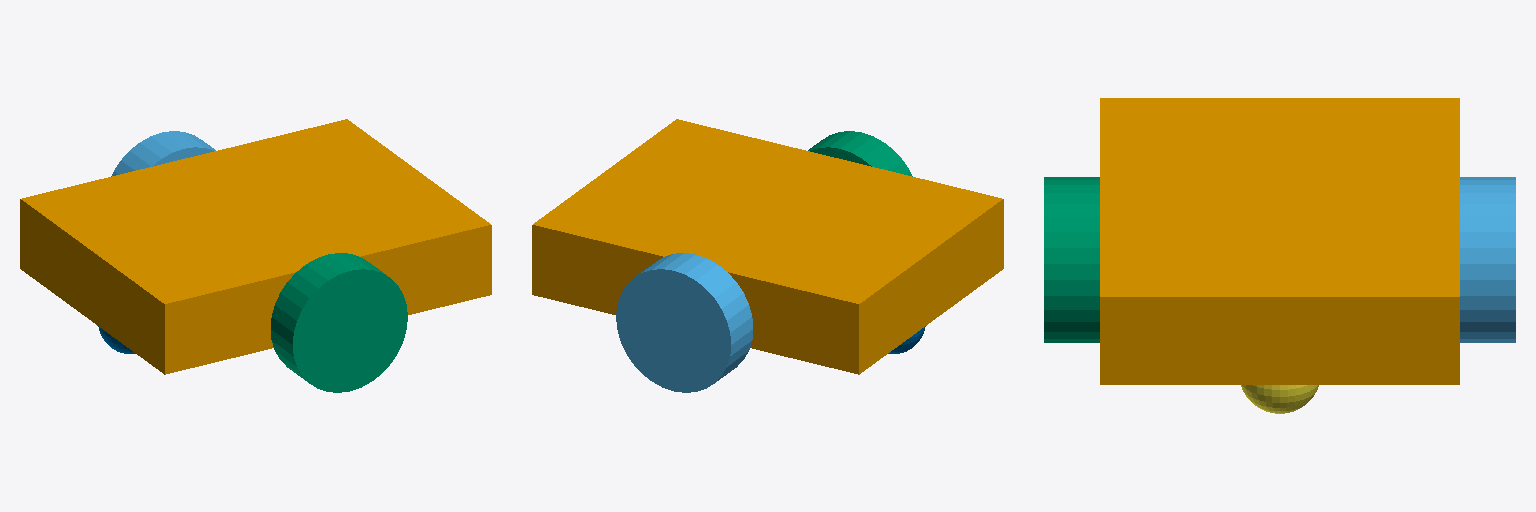
robot.urdf — mobile_cart:
<?xml version="1.0"?>
<!-- A minimal differential-drive cart with no arm: two driven wheels and
     two caster spheres. Imported through the regular URDF importer, it
     exercises the wheel-only path (no actuated arm chain) and gives the
     navigation skills a standalone base to drive. Wheel joint axes point
     radially outward on both sides, matching the importer's measured
     spin-sign convention. The caster spheres sit 1.5 mm high: they are
     tip guards, not load bearers — a rigid sphere caster cannot roll, so
     a load-bearing one just drags (measured: it halves the drive). -->
<robot name="mobile_cart">
  <link name="chassis">
    <inertial>
      <mass value="3.0"/>
      <inertia ixx="0.020" ixy="0" ixz="0" iyy="0.030" iyz="0" izz="0.045"/>
    </inertial>
    <visual>
      <origin xyz="0 0 0.075"/>
      <geometry><box size="0.34 0.26 0.07"/></geometry>
    </visual>
    <collision>
      <origin xyz="0 0 0.075"/>
      <geometry><box size="0.34 0.26 0.07"/></geometry>
    </collision>
  </link>

  <link name="left_wheel_link">
    <inertial>
      <mass value="0.3"/>
      <inertia ixx="0.0006" ixy="0" ixz="0" iyy="0.0011" iyz="0" izz="0.0006"/>
    </inertial>
    <visual>
      <origin rpy="1.5707963 0 0"/>
      <geometry><cylinder radius="0.06" length="0.04"/></geometry>
    </visual>
    <collision>
      <origin rpy="1.5707963 0 0"/>
      <geometry><cylinder radius="0.06" length="0.04"/></geometry>
    </collision>
  </link>
  <joint name="base_left_wheel" type="continuous">
    <parent link="chassis"/>
    <child link="left_wheel_link"/>
    <origin xyz="0 0.15 0.06"/>
    <axis xyz="0 1 0"/>
    <limit effort="10" velocity="10"/>
  </joint>

  <link name="right_wheel_link">
    <inertial>
      <mass value="0.3"/>
      <inertia ixx="0.0006" ixy="0" ixz="0" iyy="0.0011" iyz="0" izz="0.0006"/>
    </inertial>
    <visual>
      <origin rpy="1.5707963 0 0"/>
      <geometry><cylinder radius="0.06" length="0.04"/></geometry>
    </visual>
    <collision>
      <origin rpy="1.5707963 0 0"/>
      <geometry><cylinder radius="0.06" length="0.04"/></geometry>
    </collision>
  </link>
  <joint name="base_right_wheel" type="continuous">
    <parent link="chassis"/>
    <child link="right_wheel_link"/>
    <origin xyz="0 -0.15 0.06"/>
    <axis xyz="0 -1 0"/>
    <limit effort="10" velocity="10"/>
  </joint>

  <link name="front_caster">
    <inertial>
      <mass value="0.1"/>
      <inertia ixx="0.00004" ixy="0" ixz="0" iyy="0.00004" iyz="0" izz="0.00004"/>
    </inertial>
    <visual><geometry><sphere radius="0.03"/></geometry></visual>
    <collision><geometry><sphere radius="0.03"/></geometry></collision>
  </link>
  <joint name="front_caster_joint" type="fixed">
    <parent link="chassis"/>
    <child link="front_caster"/>
    <origin xyz="0.13 0 0.0315"/>
  </joint>

  <link name="back_caster">
    <inertial>
      <mass value="0.1"/>
      <inertia ixx="0.00004" ixy="0" ixz="0" iyy="0.00004" iyz="0" izz="0.00004"/>
    </inertial>
    <visual><geometry><sphere radius="0.03"/></geometry></visual>
    <collision><geometry><sphere radius="0.03"/></geometry></collision>
  </link>
  <joint name="back_caster_joint" type="fixed">
    <parent link="chassis"/>
    <child link="back_caster"/>
    <origin xyz="-0.13 0 0.0315"/>
  </joint>
</robot>

--- Render facts (derived) ---
Views: 3 orthographic renders of the robot side by side, from view 1: azimuth 30°, elevation 25°; view 2: azimuth 150°, elevation 25°; view 3: azimuth 270°, elevation 25°.
Robot: mobile_cart — 5 links, 4 joints (2 continuous, 2 fixed); root link chassis; default pose: every joint at zero.
Links seen in each view (by area): view 1: chassis, right_wheel_link, left_wheel_link; view 2: chassis, left_wheel_link, right_wheel_link; view 3: chassis, left_wheel_link, right_wheel_link, front_caster.
Boxes of the visible links, left/top/right/bottom form: chassis: left=20, top=119, right=491, bottom=374; right_wheel_link: left=271, top=253, right=407, bottom=392; left_wheel_link: left=111, top=131, right=215, bottom=176; chassis: left=532, top=119, right=1003, bottom=374; left_wheel_link: left=616, top=253, right=752, bottom=392; right_wheel_link: left=808, top=131, right=912, bottom=176; chassis: left=1100, top=98, right=1459, bottom=384; left_wheel_link: left=1460, top=177, right=1515, bottom=342; right_wheel_link: left=1044, top=177, right=1099, bottom=342; front_caster: left=1241, top=385, right=1318, bottom=413.
Bounding box of the posed robot: 0.34 × 0.34 × 0.12 m (x, y, z).
Geometry: primitives only (box / cylinder / sphere), no mesh files.
